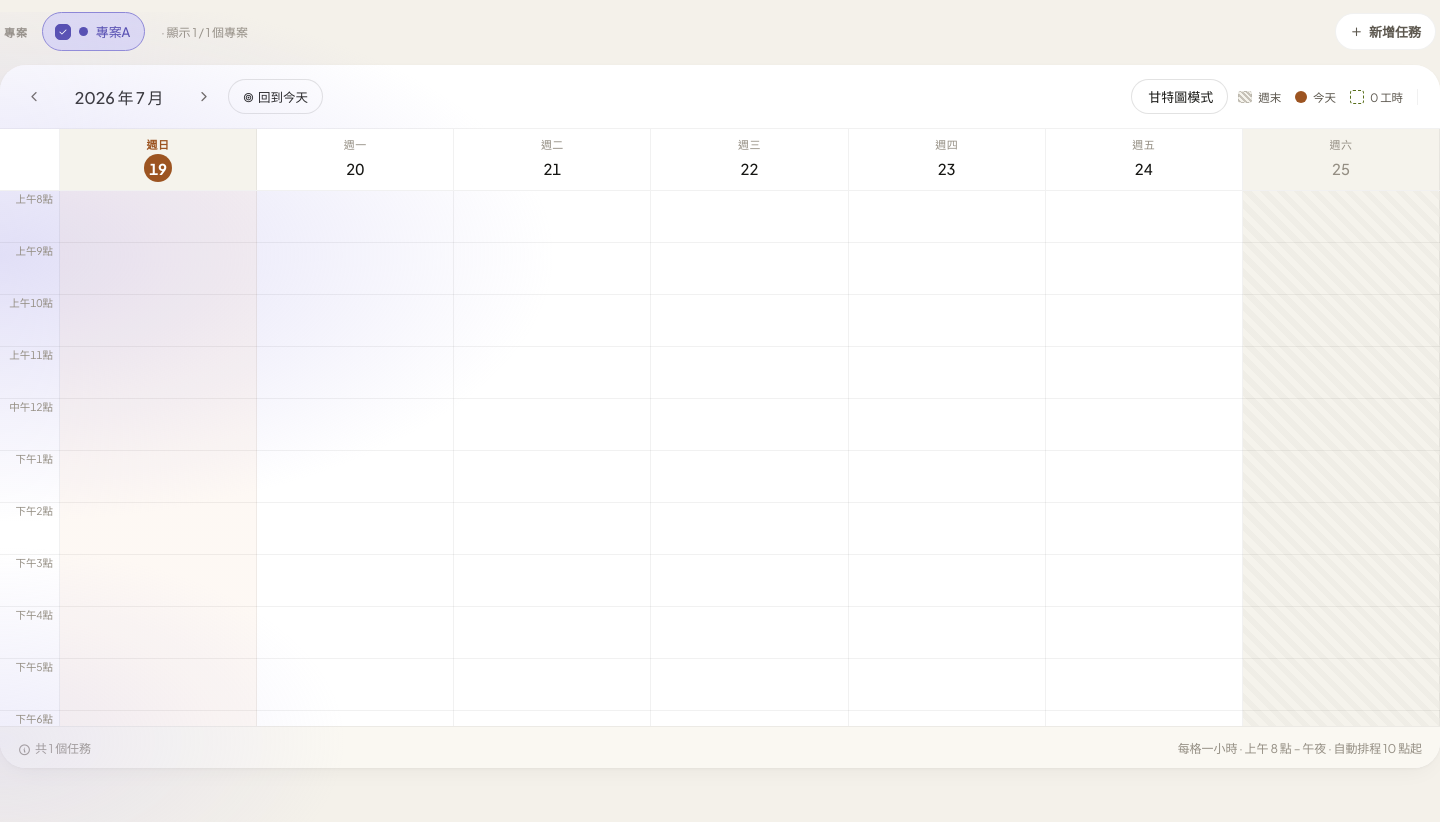
Test: 日期格 header 渲染 › 今天的日期格有 today class 和「今天」bubble
Click the button "甘特圖模式": coordinates (1180, 96) [1131, 79, 1228, 114]
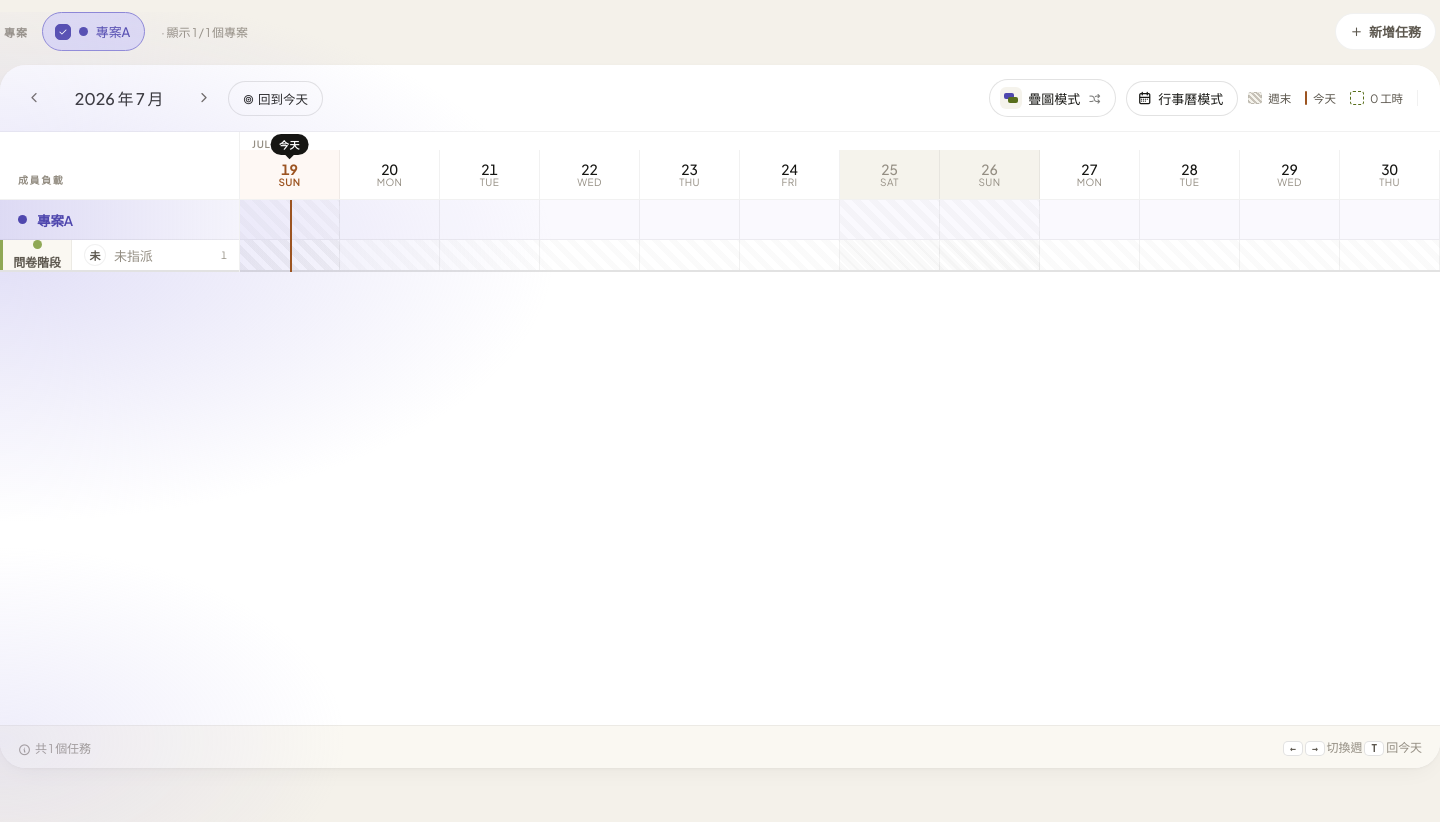
Expected: the text "今天" is shown, [270, 134, 309, 155]
